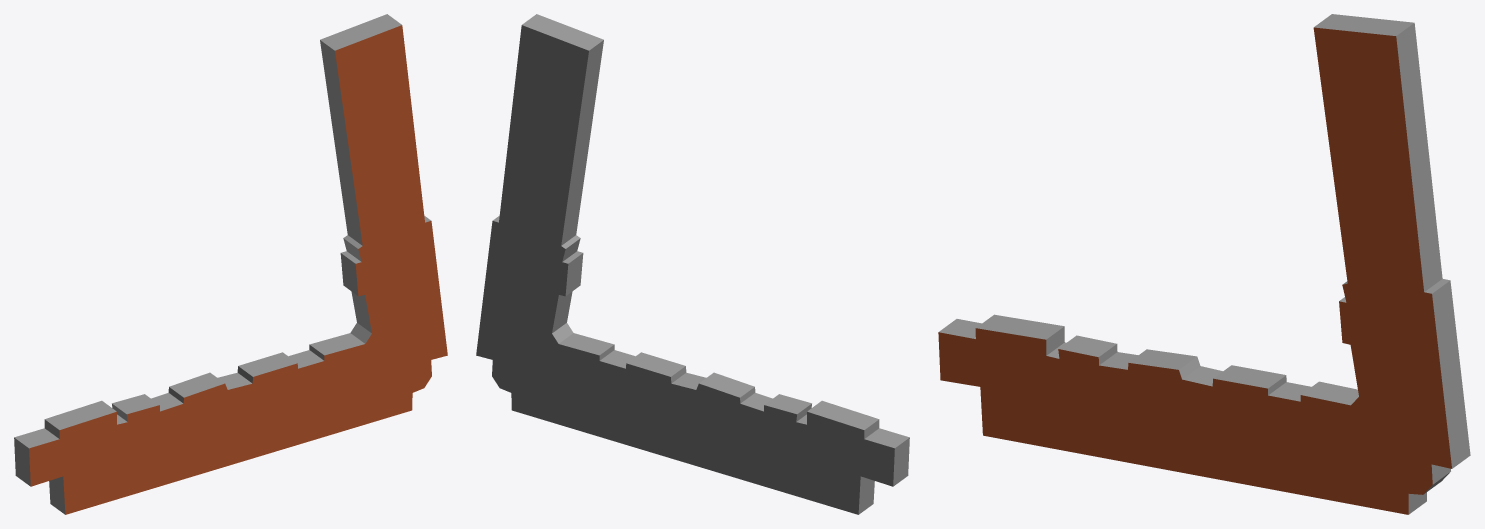
The model's file is construction_6914_assumed_A_Casa_h6m.obj.
3 renders of one model, left to right at view 1: azimuth 30°, elevation 25°; view 2: azimuth 150°, elevation 25°; view 3: azimuth 330°, elevation 25°, orthographic. The views are drawn at different scales.
Visible parts, largest first — view 1: construction_6914_assumed_A_Casa; view 2: construction_6914_assumed_A_Casa; view 3: construction_6914_assumed_A_Casa.
Part boxes in pixels (left/top/right/bottom): construction_6914_assumed_A_Casa: left=14, top=14, right=447, bottom=514; construction_6914_assumed_A_Casa: left=476, top=14, right=909, bottom=514; construction_6914_assumed_A_Casa: left=938, top=14, right=1470, bottom=514.
Bounding box in the file's own units: 96.58 × 89.87 × 6.
